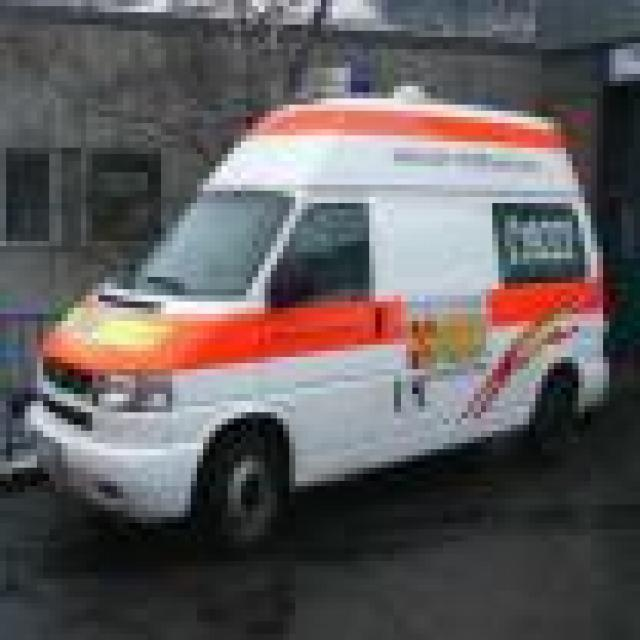emergency-vehicle: (0, 49, 634, 548)
